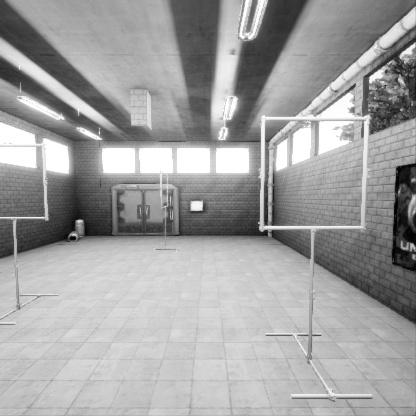gate: (264, 190, 381, 305), (160, 209, 168, 246)
